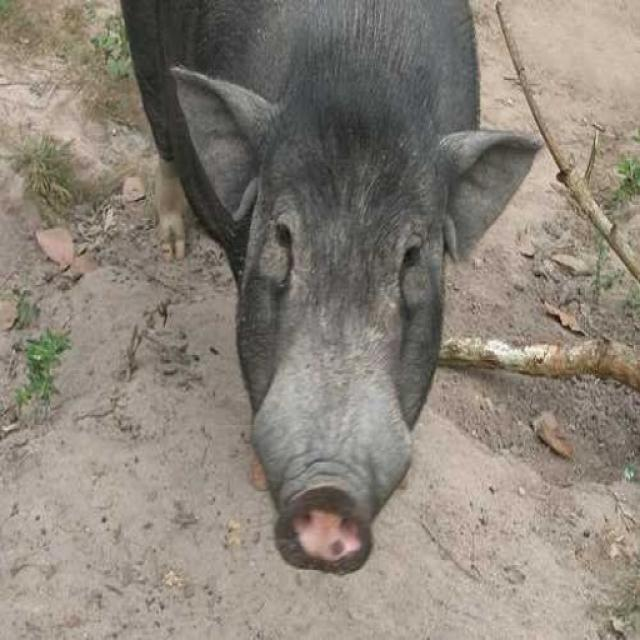pig: (104, 0, 522, 550)
